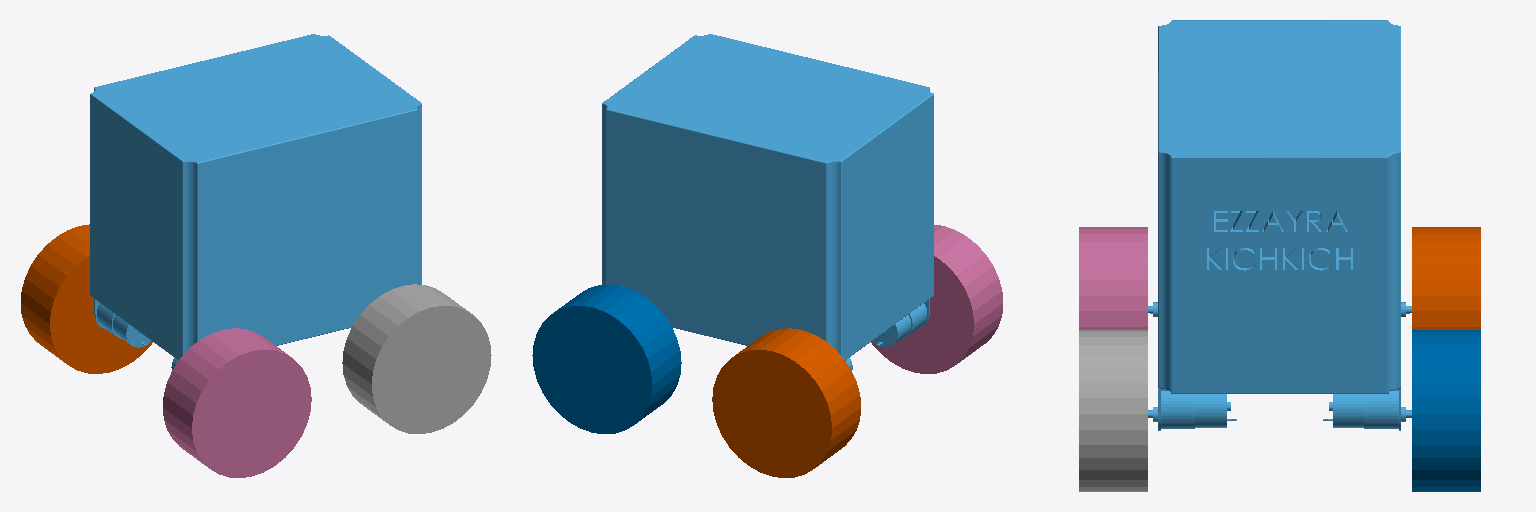
robot.urdf — bot:
<?xml version="1.0"?>
<robot name="bot">
    <gazebo>
        <plugin name="gazebo_ros_control" filename="libgazebo_ros_control.so">
            <legacyModeNS>true</legacyModeNS>
        </plugin>
    </gazebo>
<!--links-->

    <link name="base_footprint">
        <origin xyz="0.0 0.0 0.0" rpy="0.0 0.0 0.0"/>
    </link>
    <link name="base_link">
        <visual >
            <origin xyz="0.0 0.0 0.0" rpy="0.0 0.0 1.5707"/>
            <geometry>
                <mesh filename="package://bot_description/models/meshes/body.dae"/>
            </geometry>
        </visual>
        <collision>
            <origin xyz="0.0 0.0 0.0" rpy="0.0 0.0 0.0"/>
            <geometry>
                <mesh filename="package://bot_description/models/meshes/body.dae"/>
            </geometry>
        </collision>
        <inertial>
            <origin xyz="0.0 0.0 0.0" rpy="0.0 0.0 0.0"/>
            <mass value="2.78"/>
            <inertia ixx="0.0290046666667" ixy="0.0" ixz="0.0" iyy="0.022153125" iyz="0.0" izz="0.0244697916667"/>
        </inertial>
    </link>
    <link name="imu_link">
        <inertial>
            <origin xyz="0.0 0.0 0.0" rpy="0.0 0.0 0"/>
            <mass value="0.001"/>
            <inertia ixx="0.0000001" ixy="0.000000" ixz="0.000000" iyy="0.00000001" iyz="0.0" izz="0.000000001"/>
        </inertial>
        <visual>
            <origin xyz="0.0 0.0 0.0" rpy="0.0 0.0 0.0"/>
            <geometry>
                <box size="0.001 0.001 0.001"/>
            </geometry>
        </visual>
        <collision>
            <origin xyz="0.0 0.0 0.0" rpy="0.0 0.0 0.0"/>
            <geometry>
                <box size="0.001 0.001 0.001"/>
            </geometry>
        </collision>
    </link>
    <link name="gps_link">
        <inertial>
            <origin xyz="0.0 0.0 0.0" rpy="0.0 0.0 0.0"/>
            <mass value="0.001"/>
            <inertia ixx="0.0000001" ixy="0.000000" ixz="0.000000" iyy="0.00000001" iyz="0.0" izz="0.000000001"/>
        </inertial>
        <visual>
            <origin xyz="0.0 0.0 0.0" rpy="0.0 0.0 0"/>
            <geometry>
                <box size="0.001 0.001 0.001"/>
            </geometry>
        </visual>
        <collision>
            <origin xyz="0.0 0.0 0.0" rpy="0.0 0.0 0"/>
            <geometry>
                <box size="0.001 0.001 0.001"/>
            </geometry>
        </collision>
    </link>
    <link name="RFW_link">
        <visual >
            <origin xyz="0.0 0.0 0.0" rpy="0.0 1.5707 1.5707"/>
            <geometry>
                <cylinder radius="0.065" length="0.055"/>
            </geometry>
        </visual>
        <collision>
            <origin xyz="0.0 0.0 0.0" rpy="0.0 1.5707 1.5707"/>
            <geometry>
                <cylinder radius="0.065" length="0.055"/>
            </geometry>
        </collision>
        <inertial>
            <origin xyz="0.0 0.0 0.0" rpy="0.0 1.5707 1.5707"/>
            <mass value="0.156"/>
            <inertia ixx="0.000211575" ixy="0.0" ixz="0.0" iyy="0.000211575" iyz="0.0" izz="0.00032955"/>
        </inertial>
    </link>
    <link name="LFW_link">
        <visual >
            <origin xyz="0.0 0.0 0.0" rpy="0.0 1.5707 1.5707"/>
            <geometry>
                <cylinder radius="0.065" length="0.055"/>
            </geometry>
        </visual>
        <collision>
            <origin xyz="0.0 0.0 0.0" rpy="0.0 1.5707 1.5707"/>
            <geometry>
                <cylinder radius="0.065" length="0.055"/>
            </geometry>
        </collision>
        <inertial>
            <origin xyz="0.0 0.0 0.0" rpy="0.0 1.5707 1.5707"/>
            <mass value="0.156"/>
            <inertia ixx="0.000211575" ixy="0.0" ixz="0.0" iyy="0.000211575" iyz="0.0" izz="0.00032955"/>
        </inertial>
    </link>
    <link name="RBW_link">
        <visual >
            <origin xyz="0.0 0.0 0.0" rpy="0.0 1.5707 1.5707"/>
            <geometry>
                <cylinder radius="0.065" length="0.055"/>
            </geometry>
        </visual>
        <collision>
            <origin xyz="0.0 0.0 0.0" rpy="0.0 1.5707 1.5707"/>
            <geometry>
                <cylinder radius="0.065" length="0.055"/>
            </geometry>
        </collision>
        <inertial>
            <origin xyz="0.0 0.0 0.0" rpy="0.0 1.5707 1.5707"/>
            <mass value="0.156"/>
            <inertia ixx="0.000211575" ixy="0.0" ixz="0.0" iyy="0.000211575" iyz="0.0" izz="0.00032955"/>
        </inertial>
    </link>
    <link name="LBW_link">
        <visual >
            <origin xyz="0.0 0.0 0.0" rpy="0.0 1.5707 1.5707"/>
            <geometry>
                <cylinder radius="0.065" length="0.055"/>
            </geometry>
        </visual>
        <collision>
            <origin xyz="0.0 0.0 0.0" rpy="0.0 1.5707 1.5707"/>
            <geometry>
                <cylinder radius="0.065" length="0.055"/>
            </geometry>
        </collision>
        <inertial>
            <origin xyz="0.0 0.0 0.0" rpy="0.0 1.5707 1.5707"/>
            <mass value="0.156"/>
            <inertia ixx="0.000211575" ixy="0.0" ixz="0.0" iyy="0.000211575" iyz="0.0" izz="0.00032955"/>
        </inertial>
    </link>
<!--joints-->
    <joint name="base_joint" type="fixed">
        <origin xyz="0.0 0.0 0.0" rpy="0.0 0.0 0"/>
        <parent link="base_footprint"/>
        <child link="base_link"/>
    </joint>
    <joint name="imu_joint" type="fixed">
        <origin xyz="0.0 0.0 0.1" rpy="0.0 0.0 0.0"/>
        <parent link="base_link"/>
        <child link="imu_link"/>
    </joint>
    <joint name="gps_joint" type="fixed">
        <origin xyz="0.05 0.0 0.1" rpy="0.0 0.0 0.0"/>
        <parent link="base_link"/>
        <child link="gps_link"/>
    </joint>
    <joint name="LFW_joint" type="continuous">
        <origin xyz=" 0.0975 0.130 0.0" rpy="0.0 0.0 0.0"/>
        <parent link="base_link"/>
        <child link="RFW_link"/>
        <axis xyz="0.0 1.0 0.0"/>
        <limit effort="100" velocity="100"/> 
    </joint>
    <joint name="LBW_joint" type="continuous">
        <origin xyz=" -0.0975 0.130 0.0" rpy="0.0 0.0 0.0"/>
        <parent link="base_link"/>
        <child link="LFW_link"/>
        <axis xyz="0.0 1.0 0.0"/>
        <limit effort="100" velocity="100"/> 
    </joint>
    <joint name="RBW_joint" type="continuous">
        <origin xyz="-0.0975 -0.137 0.0" rpy="0.0 0.0 0.0"/>
        <parent link="base_link"/>
        <child link="RBW_link"/>
        <axis xyz="0.0 1.0 0.0"/>
        <limit effort="100" velocity="100"/> 
    </joint>
    <joint name="RFW_joint" type="continuous">
        <origin xyz="0.0975 -0.137  0.0" rpy="0.0 0.0 0.0"/>
        <parent link="base_link"/>
        <child link="LBW_link"/>
        <axis xyz="0.0 1.0 0.0"/>
        <limit effort="100" velocity="100"/> 
    </joint>


<!--gazebo plugins-->
    <gazebo reference="RFW_link">
        <mu1>20000000000.0</mu1>
	    <mu2>20000000000.0</mu2>
	    <kp>1000000.0</kp>
	    <kd>1.0</kd>
	    <material>Gazebo/Black</material>
	</gazebo>
    <gazebo reference="LFW_link">
        <mu1>20000000000.0</mu1>
	    <mu2>20000000000.0</mu2>
	    <kp>1000000.0</kp>
	    <kd>1.0</kd>
	    <material>Gazebo/Black</material>
	</gazebo>
    <gazebo reference="RBW_link">
        <mu1>20000000000.0</mu1>
	    <mu2>20000000000.0</mu2>
	    <kp>1000000.0</kp>
	    <kd>1.0</kd>
	    <material>Gazebo/Black</material>
	</gazebo>
    <gazebo reference="LBW_link">
        <mu1>20000000000.0</mu1>
	    <mu2>20000000000.0</mu2>
	    <kp>1000000.0</kp>
	    <kd>1.0</kd>
	    <material>Gazebo/Black</material>
	</gazebo>
    <gazebo reference="base_link">
	    <material>Gazebo/Orange</material>
	</gazebo>

    <gazebo reference="imu_link">
    <gravity>true</gravity>
    <sensor name="imu_sensor" type="imu">
      <always_on>true</always_on>
      <update_rate>30.0</update_rate>
      <visualize>true</visualize>
      <topic>__default_topic__</topic>
      <plugin filename="libgazebo_ros_imu_sensor.so" name="imu_plugin">
        <topicName>imu</topicName>
        <bodyName>imu_link</bodyName>
        <updateRateHZ>10.0</updateRateHZ>
        <gaussianNoise>0.0</gaussianNoise>
        <xyzOffset>0 0 0</xyzOffset>
        <rpyOffset>0 0 0</rpyOffset>
        <frameName>imu_link</frameName>
        <initialOrientationAsReference>false</initialOrientationAsReference>
      </plugin>
      <pose>0 0 0 0 0 0</pose>
    </sensor>
  </gazebo>
    <gazebo>
        <plugin name="gps_controller" filename="libhector_gazebo_ros_gps.so">
            <alwayson>true</alwayson>
            <updaterate>1.0</updaterate>
            <bodyname>gps_link</bodyname>
            <frameId>gps_link</frameId>
            <topicname>/fix</topicname>
            <velocitytopicname>/fix_velocity</velocitytopicname>
            <drift>0.0 0.0 0.0</drift>
            <gaussiannoise>0.1 0.1 0.1</gaussiannoise>
            <velocitydrift>0 0 0</velocitydrift>
            <velocitygaussiannoise>0.1 0.1 0.1</velocitygaussiannoise>
        </plugin>
    </gazebo>
<!--transmissions-->
    <transmission name="RFW_transmission">
        <type>transmission_interface/SimpleTransmission</type>
        <joint name="RFW_joint">
            <hardwareInterface>hardware_interface/VelocityJointInterface</hardwareInterface>  
        </joint>
        <actuator name="RFW_actuator">
            <mechanicalReduction>7</mechanicalReduction>
            <hardwareInterface>hardware_interface/EffortJointInterface</hardwareInterface>
        </actuator>
    </transmission>

    <transmission name="LFW_transmission">
        <type>transmission_interface/SimpleTransmission</type>
        <joint name="LFW_joint">
            <hardwareInterface>hardware_interface/VelocityJointInterface</hardwareInterface>  
        </joint>
        <actuator name="LFW_actuator">
            <mechanicalReduction>7</mechanicalReduction>
            <hardwareInterface>hardware_interface/EffortJointInterface</hardwareInterface>
        </actuator>
    </transmission>

    <transmission name="RBW_transmission">
        <type>transmission_interface/SimpleTransmission</type>
        <joint name="RBW_joint">
            <hardwareInterface>hardware_interface/VelocityJointInterface</hardwareInterface>  
        </joint>
        <actuator name="RBW_actuator">
            <mechanicalReduction>7</mechanicalReduction>
            <hardwareInterface>hardware_interface/EffortJointInterface</hardwareInterface>
        </actuator>
    </transmission>

    <transmission name="LBW_transmission">
        <type>transmission_interface/SimpleTransmission</type>
        <joint name="LBW_joint">
            <hardwareInterface>hardware_interface/VelocityJointInterface</hardwareInterface>  
        </joint>
        <actuator name="LBW_actuator">
            <mechanicalReduction>7</mechanicalReduction>
            <hardwareInterface>hardware_interface/EffortJointInterface</hardwareInterface>
        </actuator>
    </transmission>
    

</robot>

--- Facts derived from the render (not from the file) ---
3 views of the same robot in one strip: view 1: azimuth 30°, elevation 25°; view 2: azimuth 150°, elevation 25°; view 3: azimuth 270°, elevation 25° (orthographic).
Model bot with 8 links and 7 joints (4 continuous, 3 fixed), rooted at base_footprint, posed every joint at zero.
Links seen in each view (by area): view 1: base_link, LBW_link, RBW_link, LFW_link; view 2: base_link, RFW_link, LFW_link, RBW_link; view 3: base_link, RFW_link, LBW_link, LFW_link, RBW_link.
Boxes of the visible links, x1,y1,x2,y2 form: base_link: (90, 34, 421, 369); LBW_link: (342, 284, 491, 433); RBW_link: (163, 328, 311, 477); LFW_link: (21, 224, 152, 373); base_link: (602, 34, 933, 369); RFW_link: (532, 284, 681, 433); LFW_link: (712, 328, 860, 477); RBW_link: (871, 225, 1002, 373); base_link: (1148, 20, 1411, 430); RFW_link: (1412, 330, 1480, 491); LBW_link: (1079, 330, 1147, 491); LFW_link: (1412, 227, 1480, 329); RBW_link: (1079, 227, 1147, 329).
Size in the robot's own frame: 0.325 by 0.322 by 0.3046 metres.
1 mesh visuals loaded from 1 distinct referenced files (1 Collada DAE).
